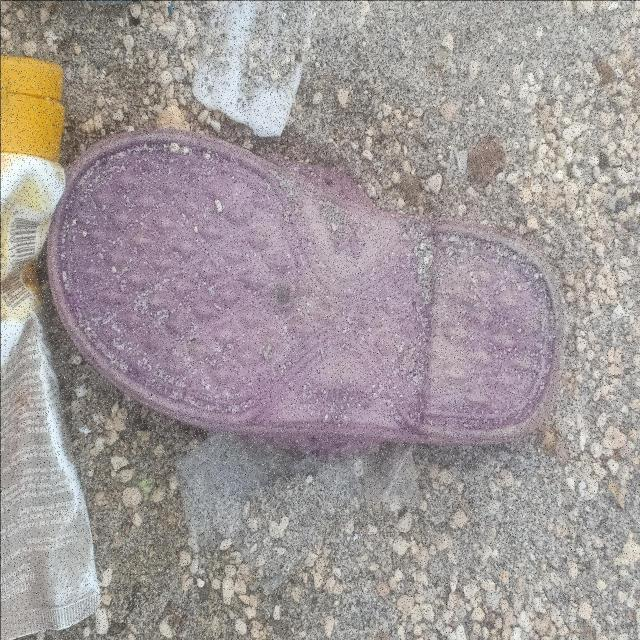rubber_waste: (48, 126, 566, 446)
